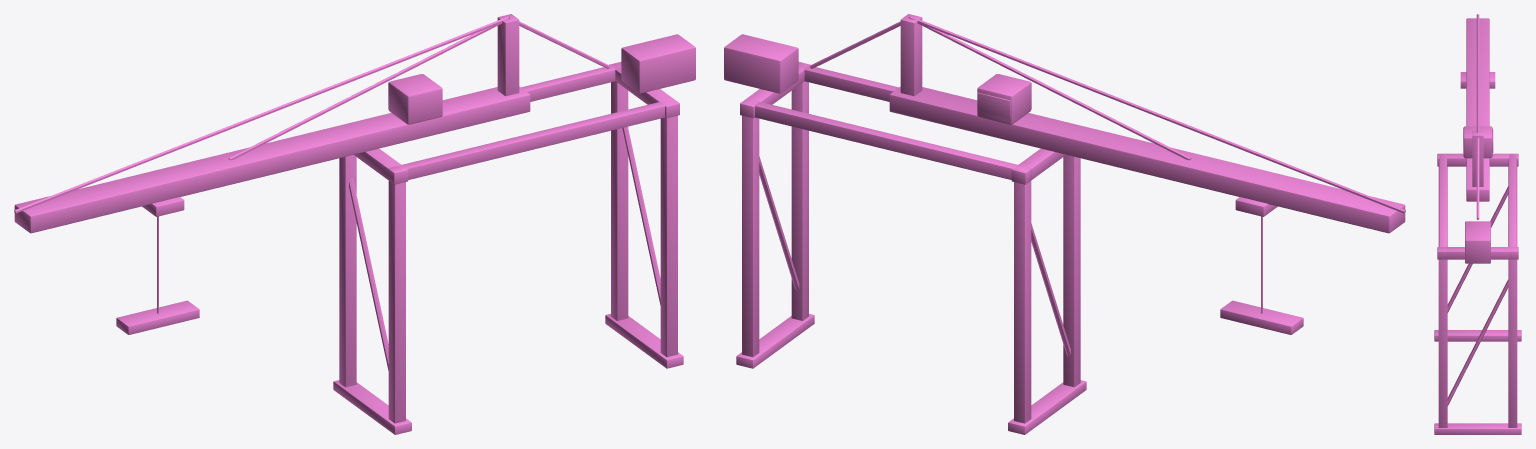
The model's file is Docks_GantryCrane.fbx.
3 views of the same model, side by side, from view 1: azimuth 30°, elevation 25°; view 2: azimuth 150°, elevation 25°; view 3: azimuth 270°, elevation 25° (orthographic). The views are drawn at different scales.
Visible parts, largest first — view 1: Gantry; view 2: Gantry; view 3: Gantry.
Part boxes in pixels (x1,y1,x2,y2): Gantry: [14, 14, 695, 434]; Gantry: [724, 14, 1405, 434]; Gantry: [1434, 14, 1521, 434].
Size of the model in its own units: 94.04 by 48.25 by 15.
Materials: 1 (1 with a texture image).
